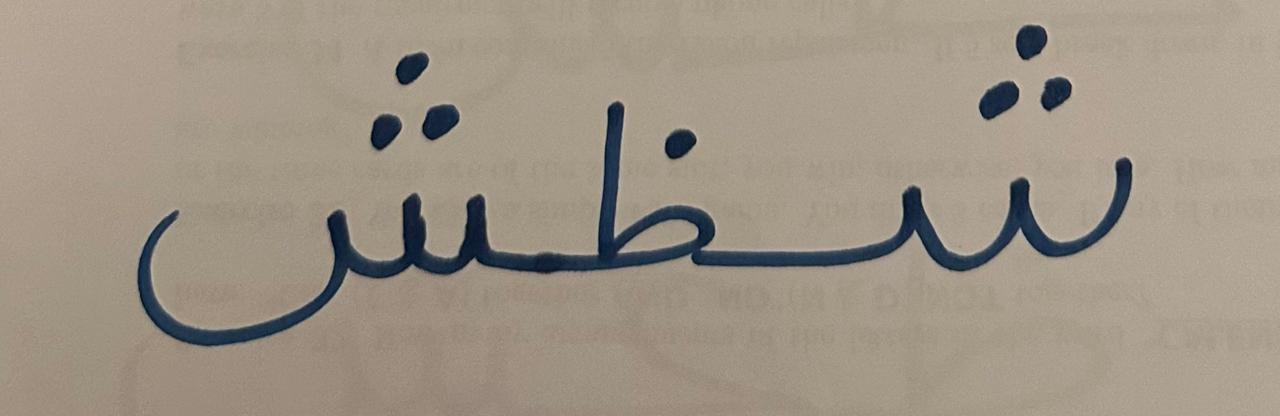tah: (72, 14, 520, 368), (787, 4, 1189, 338)
zain: (527, 19, 780, 348)
